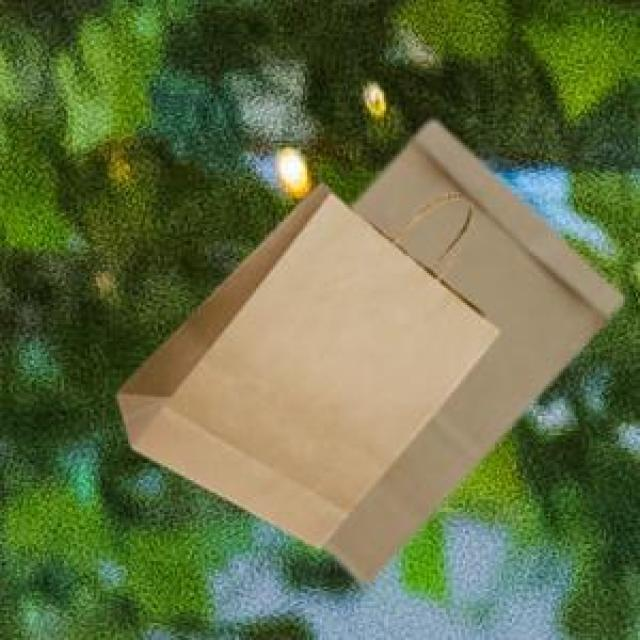paper: (113, 179, 495, 544), (318, 117, 619, 580)
